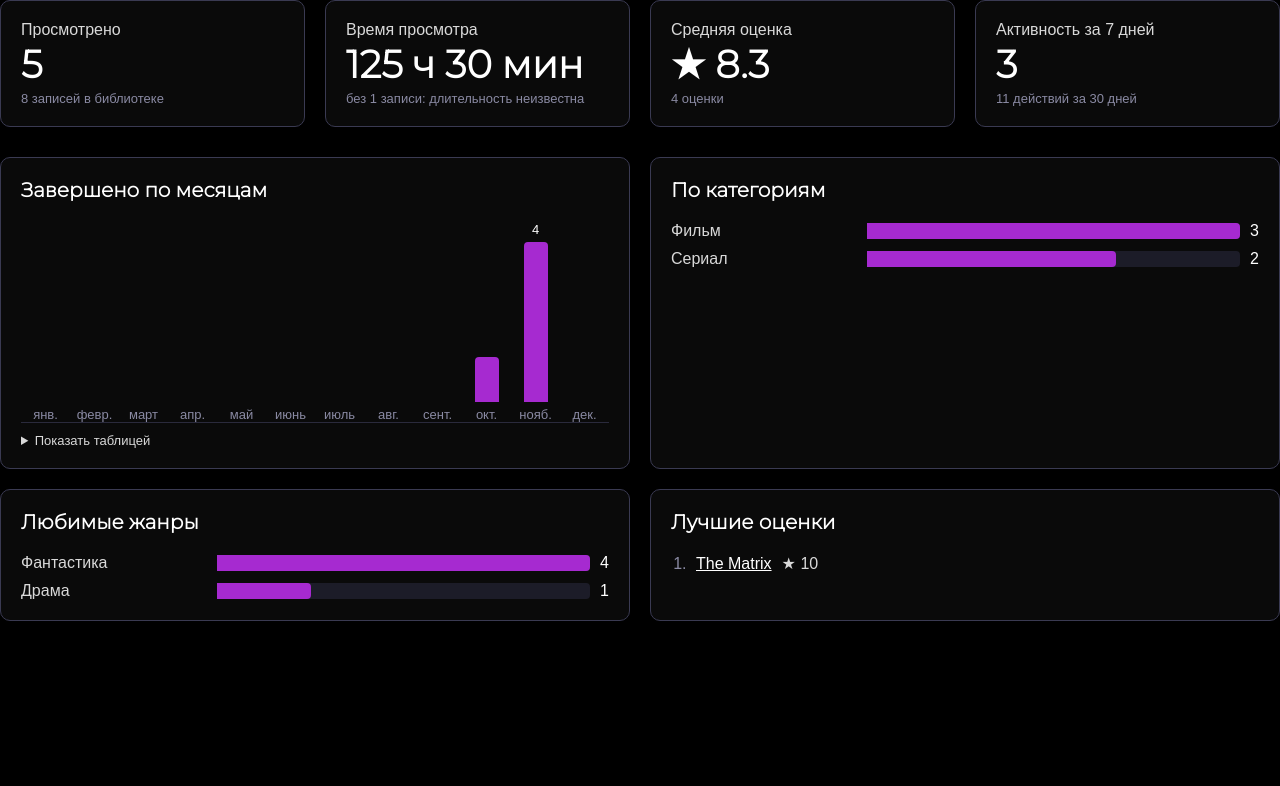
Test: StatisticsPanel › draws 12 months with a tooltip per column and a table view
The width and height of the screenshot is (1280, 786).
Hover over the button "окт." at [486, 322], box x1=462 y1=222 x2=511 y2=422
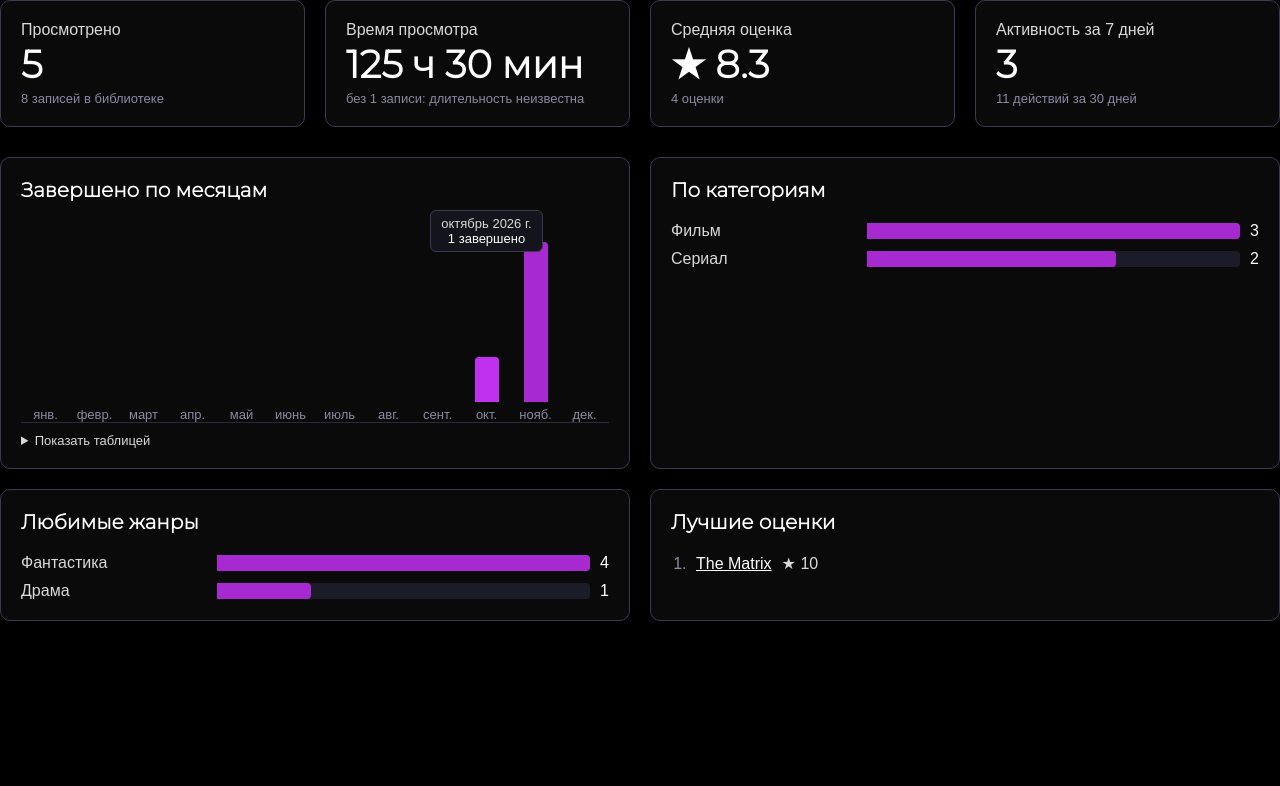
Expected: the tooltip reads "октябрь 2026 г. 1 завершено", x1=430 y1=210 x2=543 y2=252
Click the heading "Показать таблицей" at [92, 441], box x1=35 y1=433 x2=150 y2=448
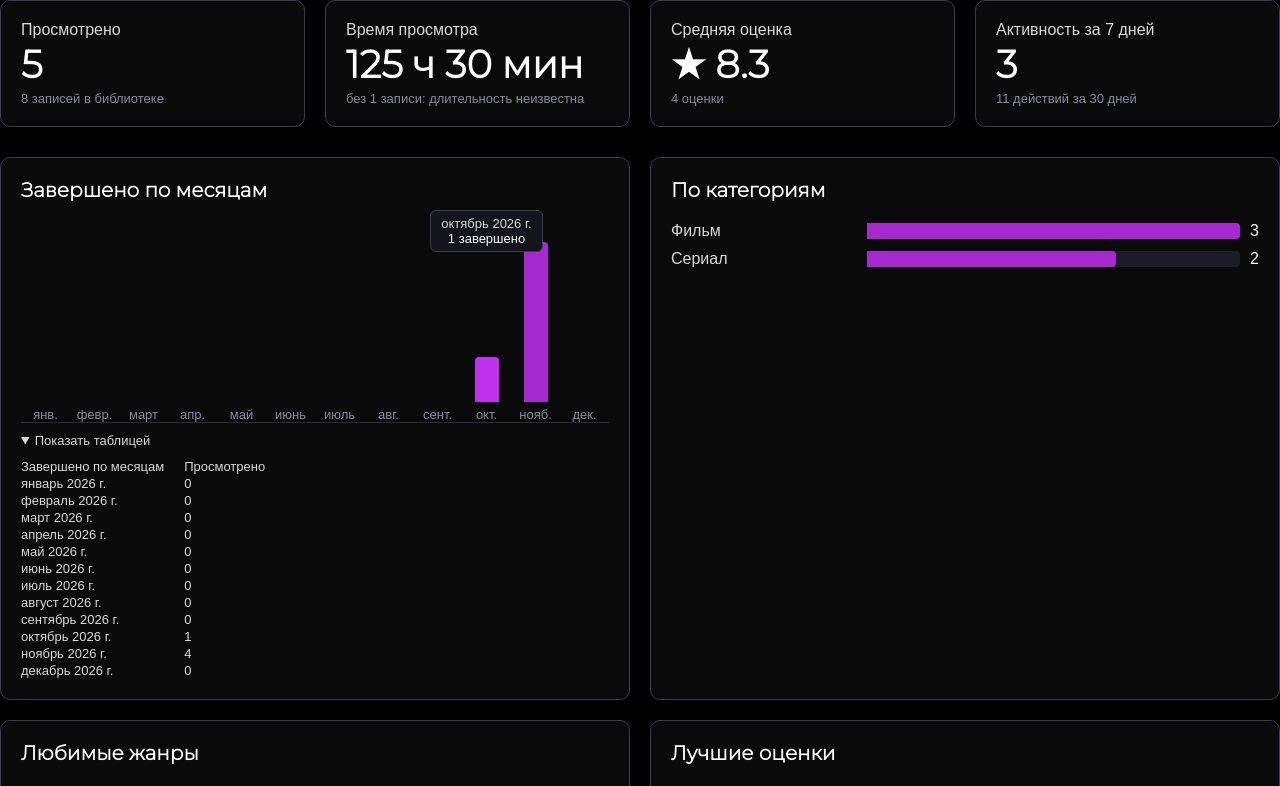
Expected: the column heading "ноябрь 2026 г." is shown, x1=21 y1=645 x2=184 y2=662
